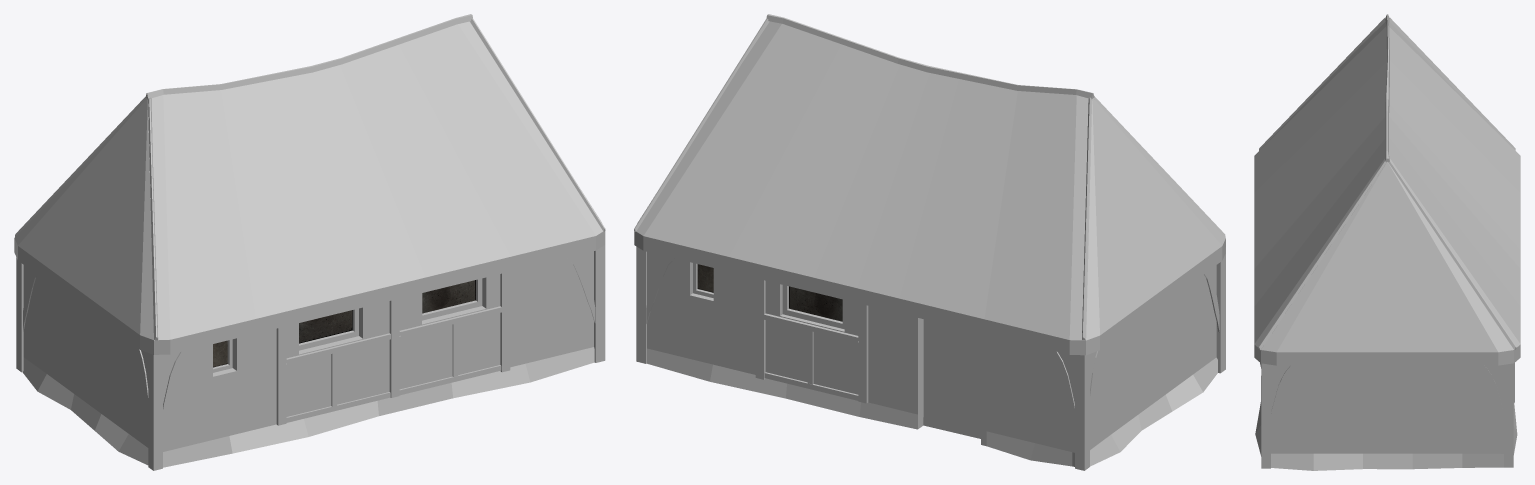
The model's file is hut_2.fbx.
3 views of the same model, side by side, from view 1: azimuth 30°, elevation 25°; view 2: azimuth 150°, elevation 25°; view 3: azimuth 270°, elevation 25° (orthographic). The views are drawn at different scales.
Parts seen in each view (by area): view 1: hut_2; view 2: hut_2; view 3: hut_2.
Boxes of the visible parts, x1,y1,x2,y2 form: hut_2: [14, 14, 605, 470]; hut_2: [634, 14, 1225, 470]; hut_2: [1254, 14, 1520, 470].
Size of the model in its own units: 13.15 by 8.49 by 7.22.
